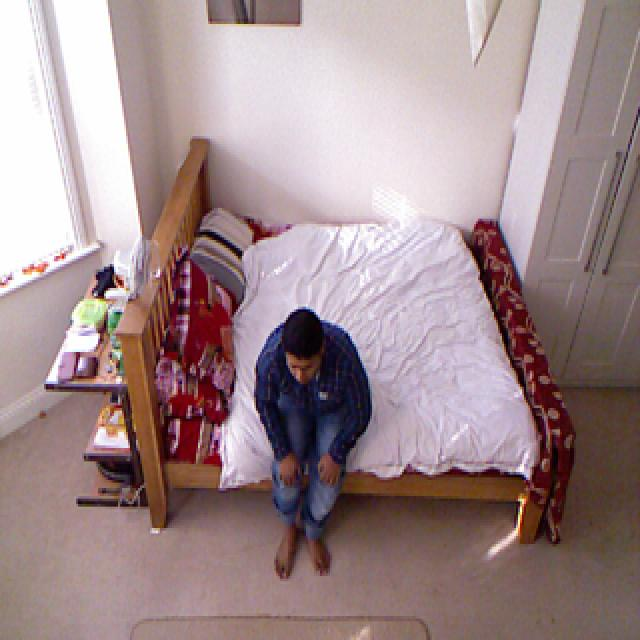sitting: (255, 303, 370, 583)
